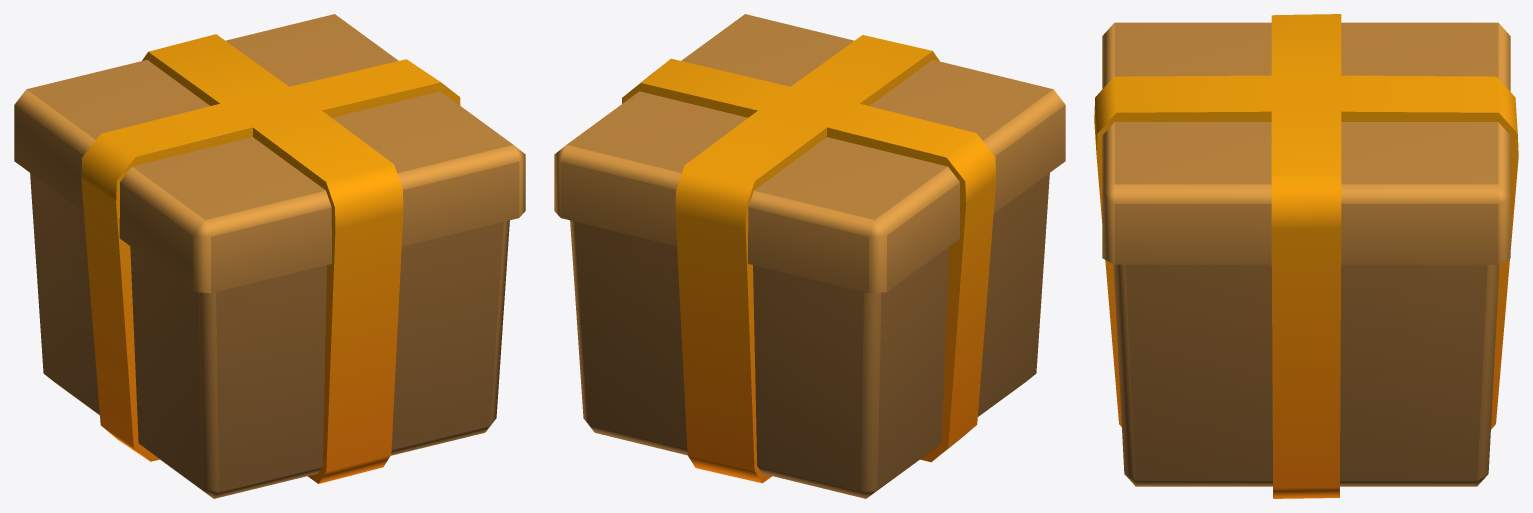
Rendered from giftbox_016.fbx.
The picture shows the model from 3 angles, left to right: view 1: azimuth 30°, elevation 25°; view 2: azimuth 150°, elevation 25°; view 3: azimuth 270°, elevation 25°; orthographic projection. The views are drawn at different scales.
Parts seen in each view (by area): view 1: giftbox_016; view 2: giftbox_016; view 3: giftbox_016.
Boxes of the visible parts, left/top/right/bottom form: giftbox_016: left=14, top=14, right=525, bottom=498; giftbox_016: left=554, top=14, right=1065, bottom=498; giftbox_016: left=1094, top=14, right=1518, bottom=498.
Bounding box in the file's own units: 181 × 179 × 155.
